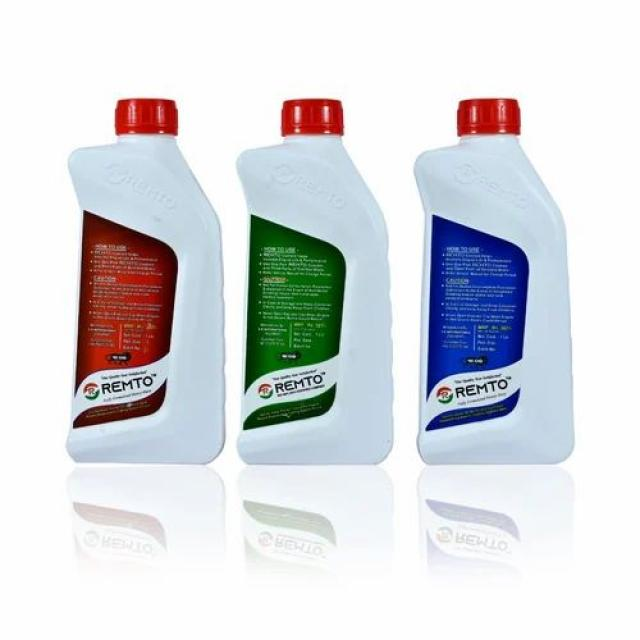coolant: (54, 95, 228, 466), (414, 93, 577, 468), (236, 96, 398, 468)
